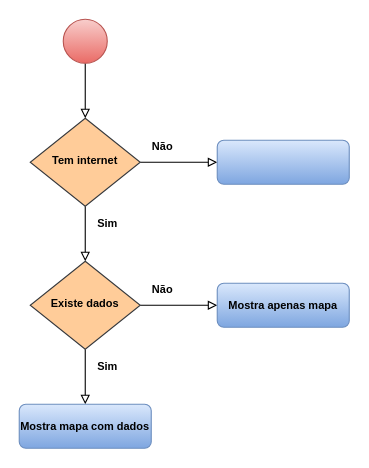
Image size: 369x468. Some labels were removed from this diagram. Each missing label, with the centre of its shape:
Início: (84,40)
Não aparece nada: (282,161)
